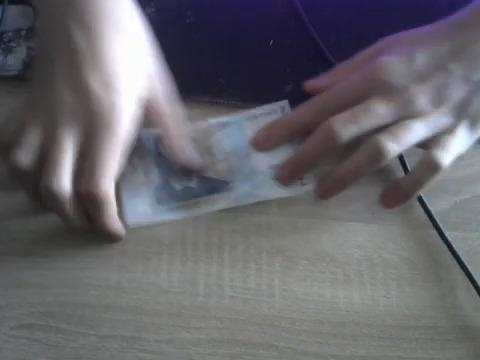20leva: (120, 136, 310, 229)
